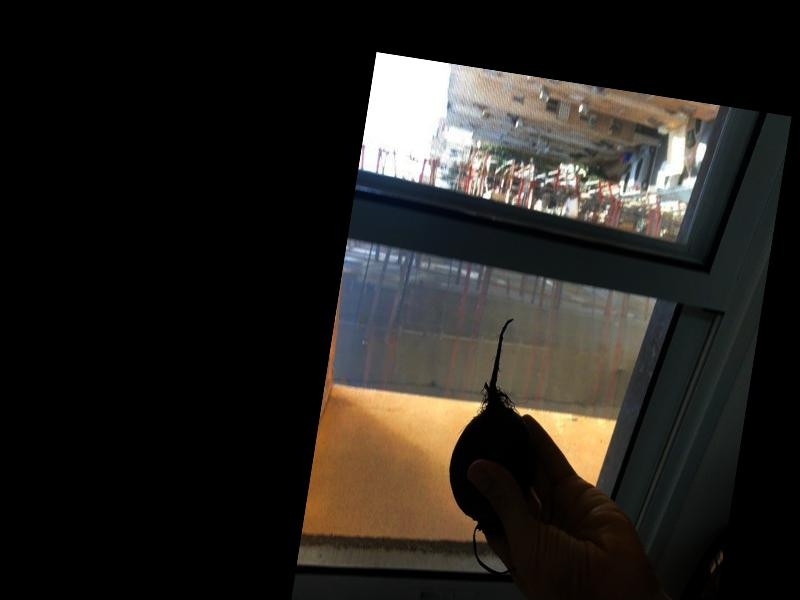Beet: (434, 312, 582, 581)
